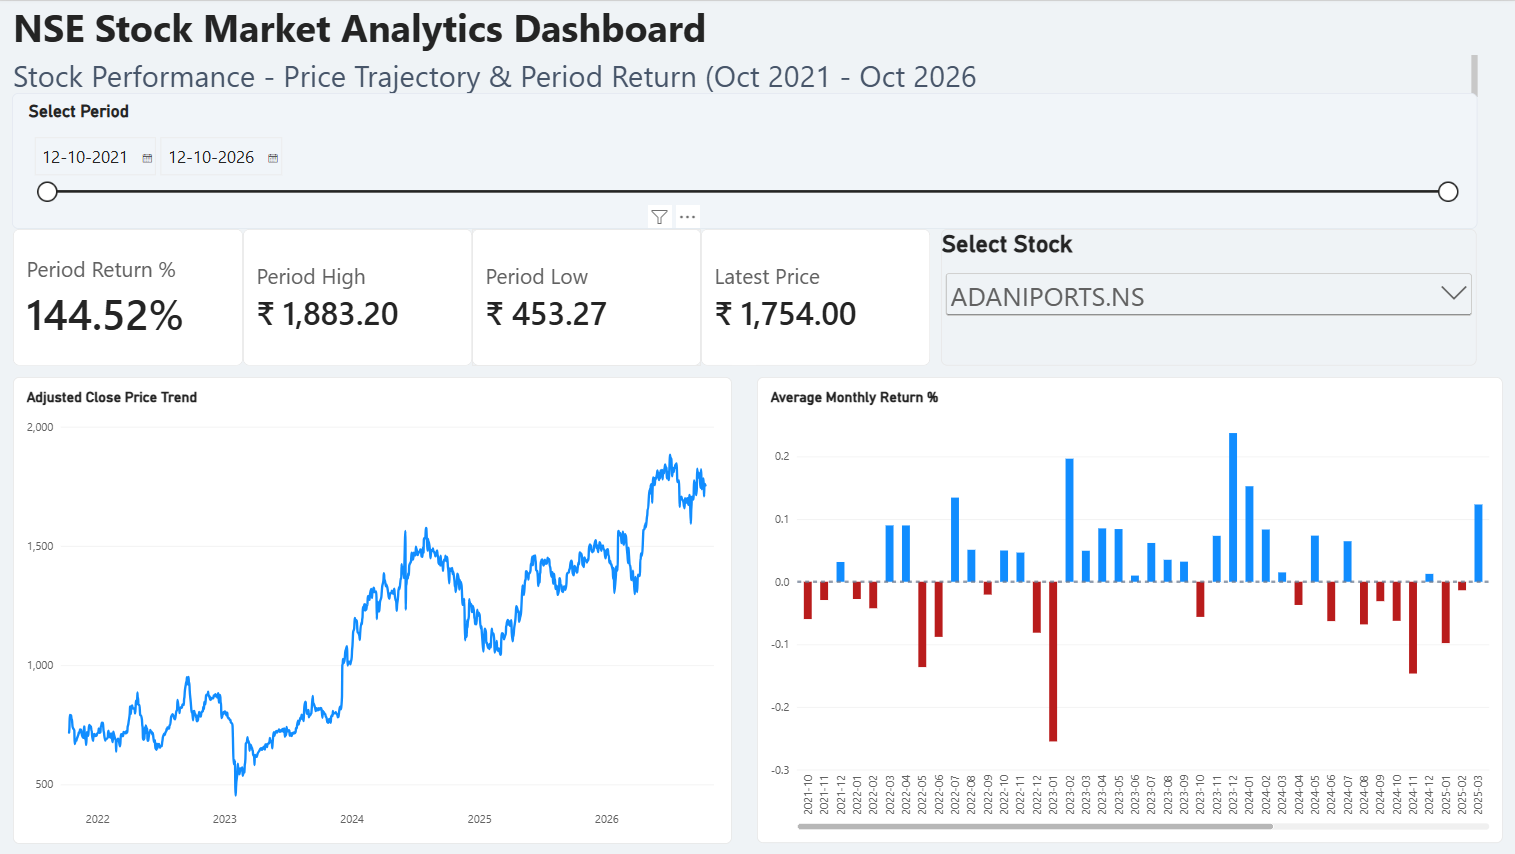

The dashboard page shown, as its layout file describes it:
{"tool":"powerbi","page":{"name":"Stock Performance","canvas":[1920,1080],"ordinal":1},"visuals":[{"type":"slicer","title":"Select Stock","fields":{"Values":["stock_prices.ticker"]},"box":[1193,288.8,678.1,173.3],"z":0},{"type":"cardVisual","fields":{"Data":["Measures (1).Period Return %"]},"box":[17.6,288.8,291.3,173.3],"z":1000},{"type":"cardVisual","fields":{"Data":["Max(stock_prices.adj_close)"]},"box":[308.9,288.8,290.1,173.3],"z":2000},{"type":"textbox","box":[150,489,300,300],"z":3000},{"type":"textbox","box":[18,0,1882,68],"z":4000},{"type":"textbox","box":[18,68,1854,68],"z":5000},{"type":"slicer","title":"Select Period","fields":{"Values":["DateTable.Date"]},"box":[16.3,116.8,1854.8,172],"z":6000},{"type":"cardVisual","fields":{"Data":["Min(stock_prices.adj_close)"]},"box":[599,288.8,290.1,173.3],"z":7000},{"type":"cardVisual","fields":{"Data":["Measures (1).Latest Adj Close"]},"box":[889.1,288.8,290.1,173.3],"z":8000},{"type":"lineChart","title":"Adjusted Close Price Trend","fields":{"Category":["DateTable.Date"],"Y":["Sum(stock_prices.adj_close)"]},"box":[18.2,476,909.6,590.9],"z":9000},{"type":"clusteredColumnChart","title":"Average Monthly Return % ","fields":{"Category":["DateTable.Year-Month"],"Y":["Measures (1).Average Monthly Return %"]},"box":[960,476,943.9,590],"z":10000}]}

Visuals, with their boxes in screenshot pixels (x1, y1, x2, y2), scaled from the page's 1920x1080 canvas onto the 1515x854 screenshot:
"Select Stock" slicer: 941,228,1476,365
cardVisual - Measures (1).Period Return %: 14,228,244,365
cardVisual - Max(stock_prices.adj_close): 244,228,473,365
textbox: 118,387,355,624
textbox: 14,0,1499,54
textbox: 14,54,1477,108
"Select Period" slicer: 13,92,1476,228
cardVisual - Min(stock_prices.adj_close): 473,228,702,365
cardVisual - Measures (1).Latest Adj Close: 702,228,930,365
"Adjusted Close Price Trend" lineChart: 14,376,732,844
"Average Monthly Return % " clusteredColumnChart: 758,376,1502,843
